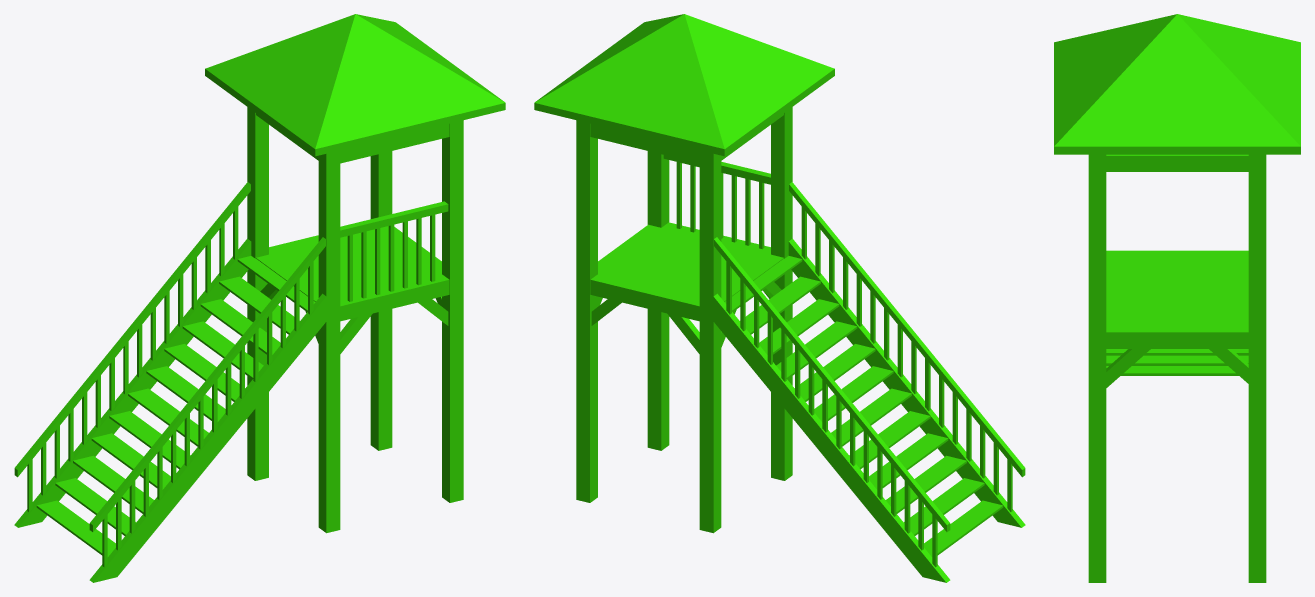
File: tower.fbx
The picture shows the model from 3 angles, left to right: view 1: azimuth 30°, elevation 25°; view 2: azimuth 150°, elevation 25°; view 3: azimuth 270°, elevation 25°; orthographic projection. The views are drawn at different scales.
Visible parts, largest first — view 1: tower, tower_stairs, tower_guardrail; view 2: tower, tower_stairs, tower_guardrail; view 3: tower, tower_stairs.
Boxes of the visible parts, x1,y1,x2,y2 form: tower: [205, 14, 505, 533]; tower_stairs: [14, 182, 326, 582]; tower_guardrail: [340, 201, 448, 301]; tower: [534, 14, 834, 533]; tower_stairs: [713, 182, 1025, 582]; tower_guardrail: [663, 155, 770, 249]; tower: [1054, 14, 1300, 582]; tower_stairs: [1106, 250, 1248, 375].
Bounding box in the file's own units: 579 × 660 × 278.
